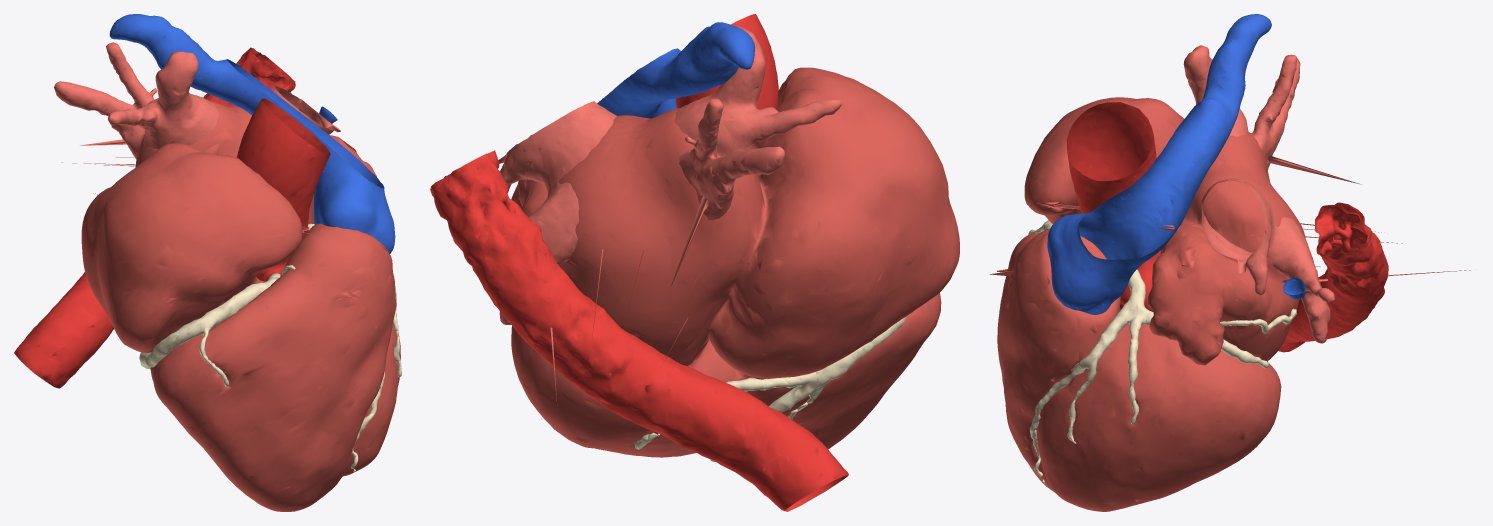
File: heart_133.glb
3 renders of one model, left to right at view 1: azimuth 30°, elevation 25°; view 2: azimuth 150°, elevation 25°; view 3: azimuth 270°, elevation 25°, orthographic. The views are drawn at different scales.
Visible parts, largest first — view 1: HeartWall, Aorta, PulmonaryArtery, PulmonaryVeins, CoronaryArteries; view 2: HeartWall, Aorta, PulmonaryVeins, PulmonaryArtery, CoronaryArteries; view 3: HeartWall, PulmonaryArtery, Aorta, PulmonaryVeins, CoronaryArteries.
Boxes of the visible parts, x1,y1,x2,y2 form: HeartWall: (81,100,400,511); Aorta: (14,47,330,388); PulmonaryArtery: (109,14,395,253); PulmonaryVeins: (54,42,340,164); CoronaryArteries: (139,223,401,472); HeartWall: (511,67,959,457); Aorta: (430,14,848,511); PulmonaryVeins: (498,25,841,409); PulmonaryArtery: (597,22,754,118); CoronaryArteries: (634,316,906,461); HeartWall: (990,97,1402,511); PulmonaryArtery: (1047,14,1305,314); Aorta: (1067,102,1388,352); PulmonaryVeins: (1183,45,1470,343); CoronaryArteries: (1028,220,1296,483).
Size of the model in its own units: 0.1369 by 0.1779 by 0.1791.
